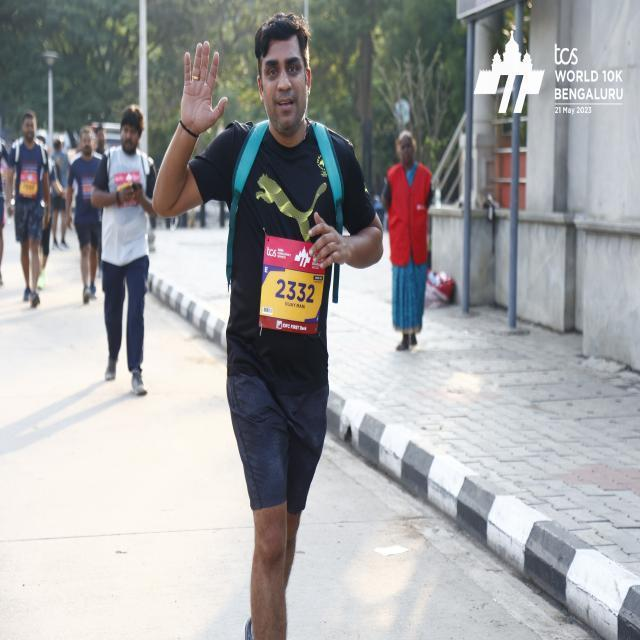dorsal: (260, 231, 327, 340)
